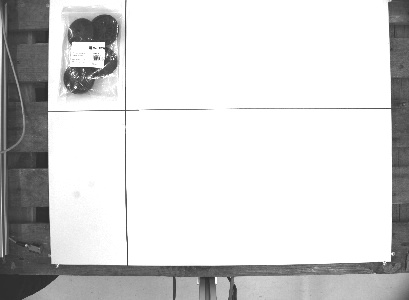t1: (57, 2, 121, 103)
